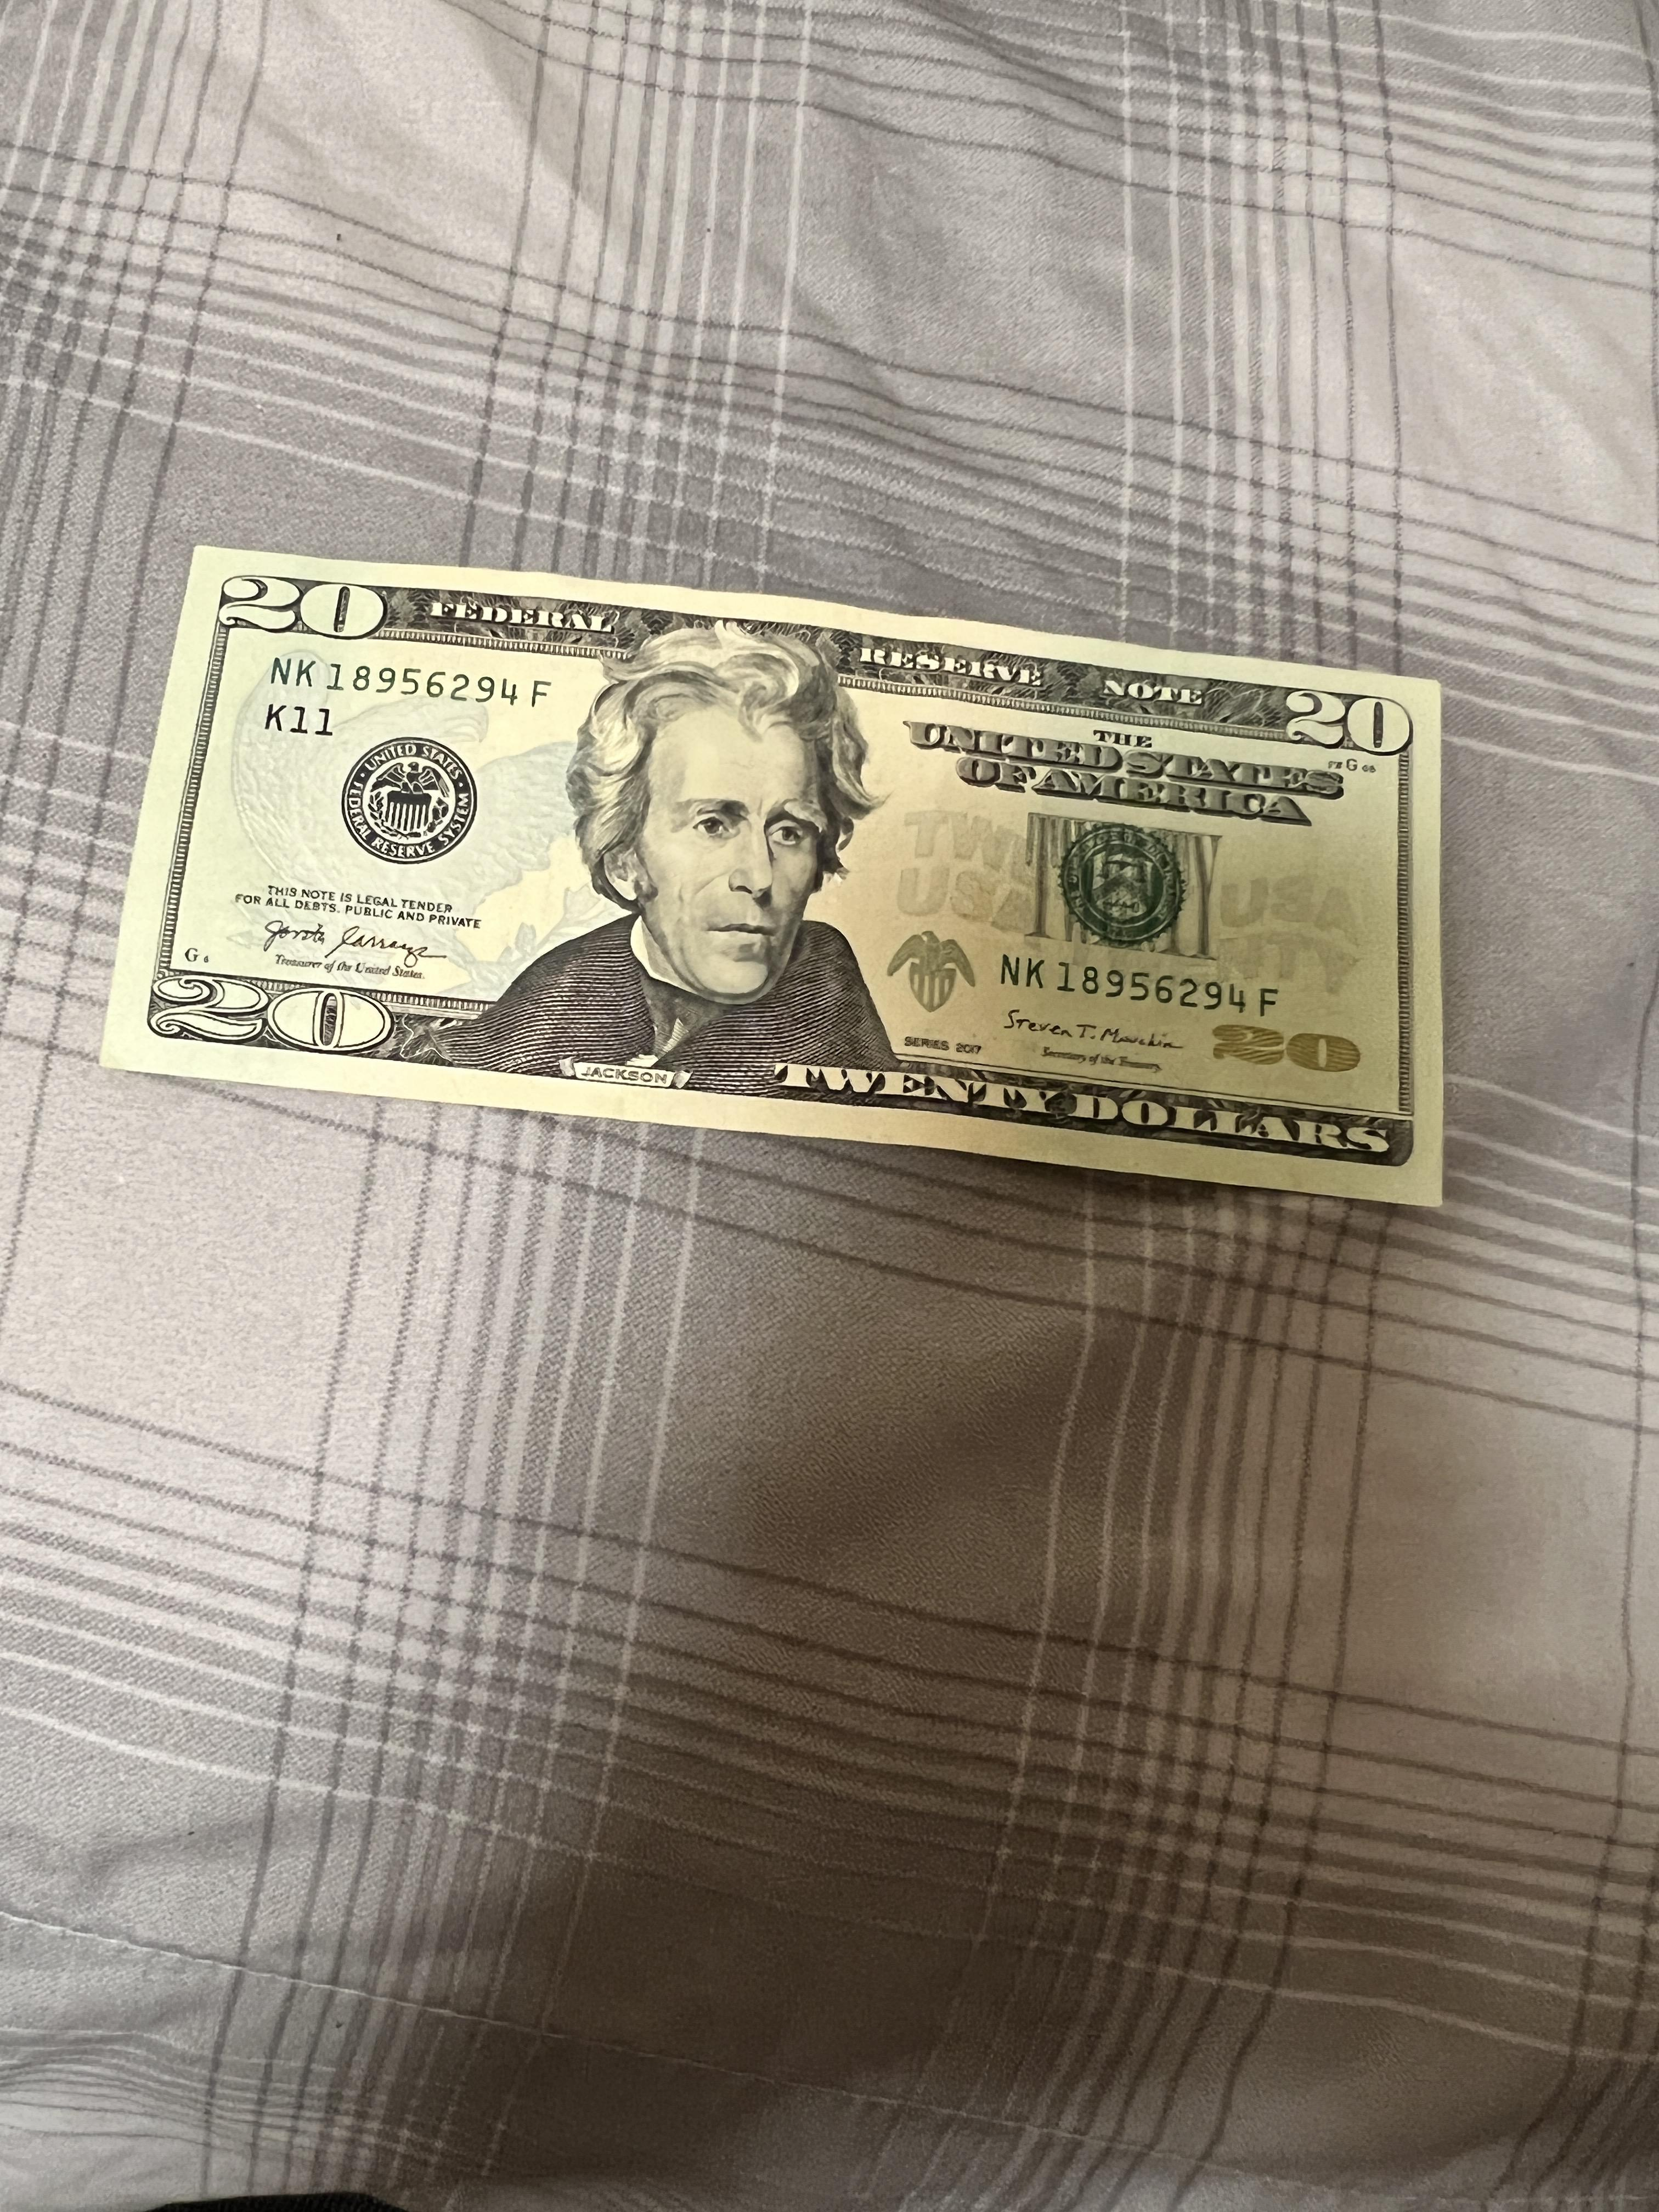TwentyBill: (101, 531, 1476, 1214)
